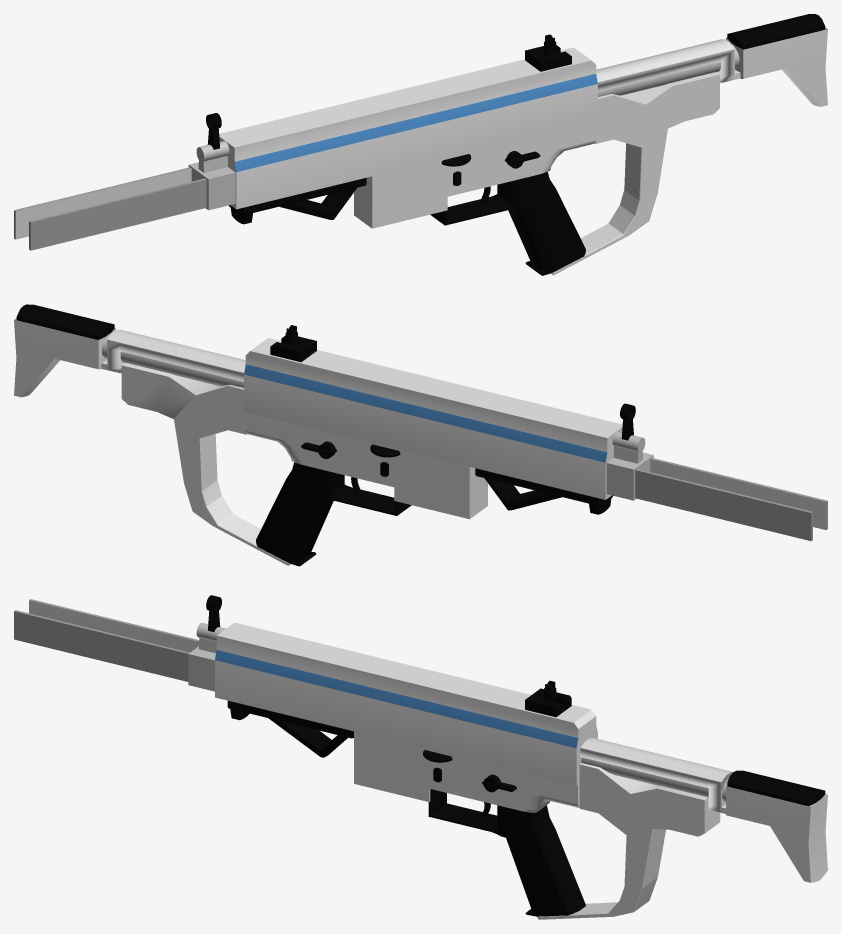
File: PRG-83Colored.fbx
3 views of the same model, one above another, from view 1: azimuth 30°, elevation 25°; view 2: azimuth 150°, elevation 25°; view 3: azimuth 330°, elevation 25° (orthographic).
Parts seen in each view (by area): view 1: pCube1, pCube7, pCube5, polySurface2, pCube19, polySurface1, polySurface3, pCylinder2, pCube12, pCube10, pCube13, pCube17; view 2: pCube1, pCube7, pCube5, polySurface1, pCube19, polySurface2, pCylinder2, polySurface3, pCube12, pCube10, pCube13, pCube17; view 3: pCube1, pCube7, pCube5, polySurface2, pCube19, polySurface1, pCylinder2, pCube10, pCube13, pCube12, polySurface3, pCube17.
Boxes of the visible parts, x1,y1,x2,y2 form: pCube1: (219, 47, 597, 275); pCube7: (551, 72, 719, 275); pCube5: (726, 14, 827, 106); polySurface2: (29, 178, 206, 250); pCube19: (596, 39, 740, 91); polySurface1: (14, 167, 191, 239); polySurface3: (188, 162, 235, 210); pCylinder2: (598, 44, 739, 96); pCube12: (228, 177, 366, 215); pCube10: (447, 194, 515, 224); pCube13: (279, 187, 356, 219); pCube17: (525, 45, 571, 71); pCube1: (244, 338, 622, 566); pCube7: (121, 362, 290, 565); pCube5: (14, 304, 115, 397); polySurface1: (635, 469, 812, 540); pCube19: (101, 329, 245, 381); polySurface2: (650, 458, 827, 529); pCylinder2: (102, 335, 243, 387); polySurface3: (606, 452, 653, 500); pCube12: (475, 468, 613, 505); pCube10: (326, 485, 394, 515); pCube13: (484, 478, 562, 510); pCube17: (270, 335, 316, 362); pCube1: (215, 622, 597, 916); pCube7: (537, 763, 720, 919); pCube5: (726, 770, 827, 882); polySurface2: (14, 610, 189, 681); pCube19: (580, 738, 732, 813); polySurface1: (29, 599, 199, 652); pCylinder2: (581, 757, 728, 801); pCube10: (430, 803, 499, 835); pCube13: (269, 718, 347, 757); pCube12: (227, 700, 353, 738); polySurface3: (188, 646, 215, 691); pCube17: (525, 688, 571, 717).
Bounding box in the file's own units: 9.81 × 2.78 × 0.6704.
